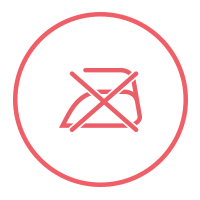do_not_iron: (60, 66, 143, 133)
